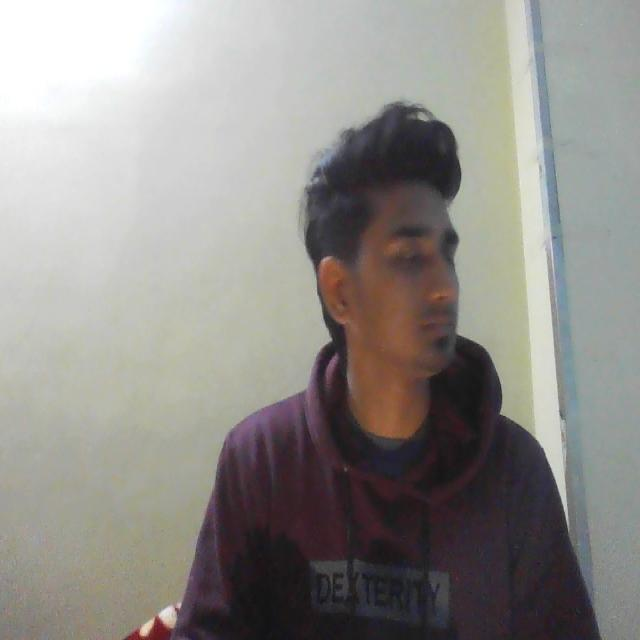real: (332, 123, 471, 385)
